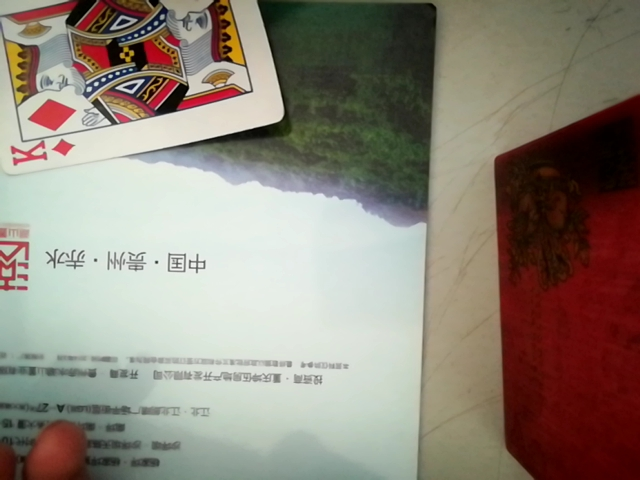fk k: (1, 0, 287, 184)
